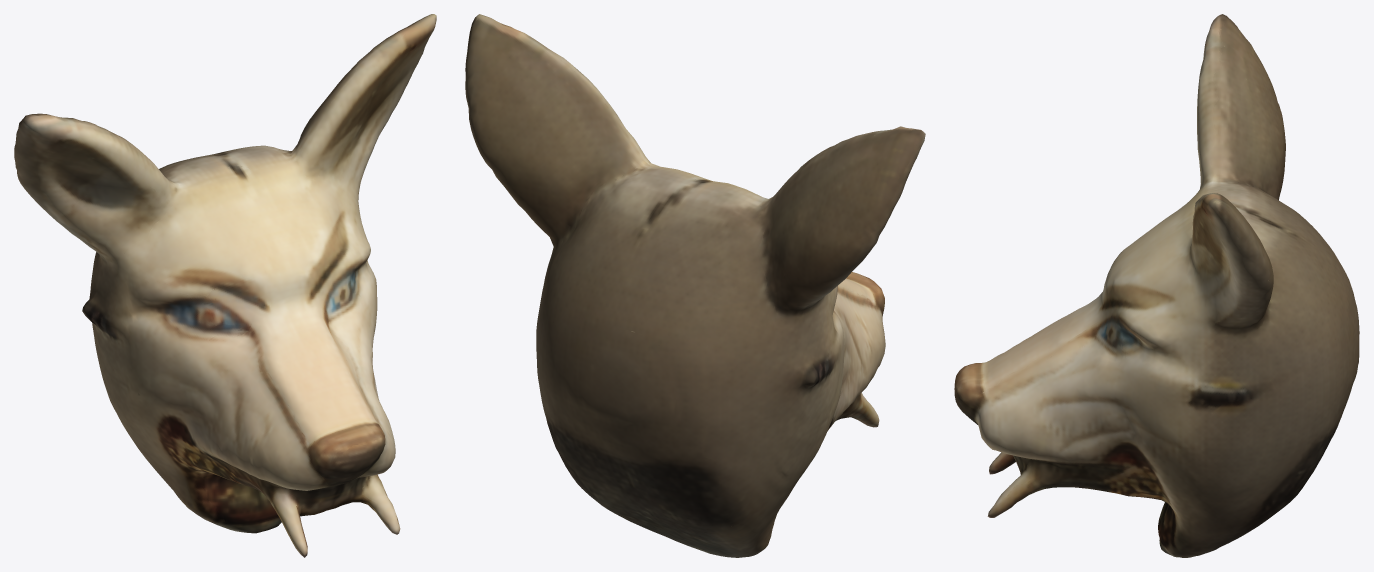
Rendered from perroblanco.glb.
The picture shows the model from 3 angles, left to right: view 1: azimuth 30°, elevation 25°; view 2: azimuth 150°, elevation 25°; view 3: azimuth 270°, elevation 25°; orthographic projection. The views are drawn at different scales.
Parts seen in each view (by area): view 1: mesh; view 2: mesh; view 3: mesh.
Part boxes in pixels (<box>): mesh: <box>14,14,436,557</box>; mesh: <box>465,14,925,557</box>; mesh: <box>954,14,1359,557</box>.
Size of the model in its own units: 1.36 by 1.44 by 1.19.
Materials: 1 (1 with a texture image).
